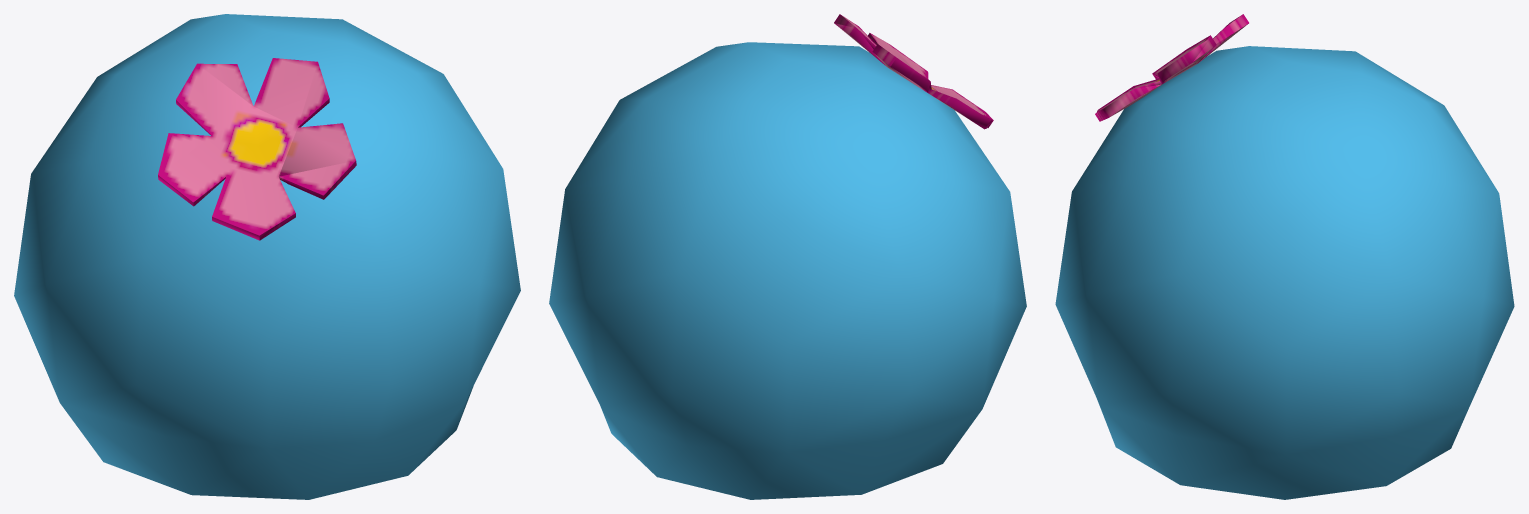
File: extralifehelmet.glb
3 renders of one model, left to right at view 1: azimuth 30°, elevation 25°; view 2: azimuth 150°, elevation 25°; view 3: azimuth 270°, elevation 25°, orthographic. The views are drawn at different scales.
Visible parts, largest first — view 1: helmet.png, u_body; view 2: helmet.png, u_body; view 3: helmet.png, u_body.
Boxes of the visible parts, x1=… form: helmet.png: x1=14, y1=14, x2=520, y2=499; u_body: x1=158, y1=58, x2=356, y2=240; helmet.png: x1=549, y1=42, x2=1026, y2=499; u_body: x1=834, y1=14, x2=993, y2=129; helmet.png: x1=1055, y1=46, x2=1514, y2=499; u_body: x1=1095, y1=14, x2=1248, y2=121.
Bounding box in the file's own units: 20.47 × 17.87 × 19.89.
2 materials, 2 textured.
